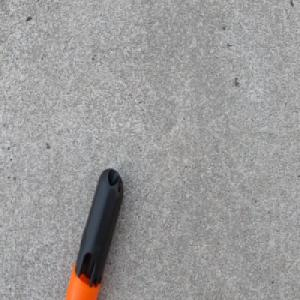PlasticPart: (64, 166, 124, 300)
